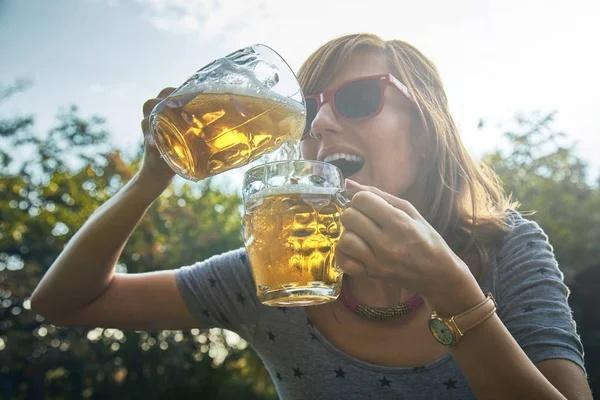glass-mug: (142, 39, 309, 182), (239, 157, 365, 309)
